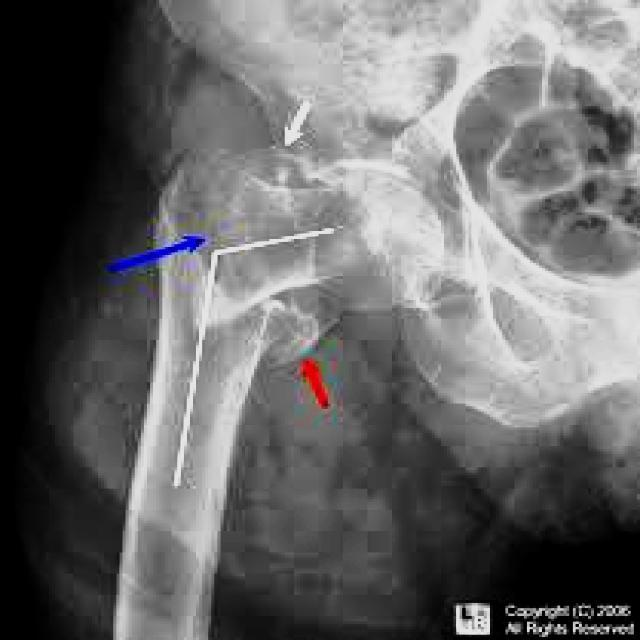Comminuted Fracture: (262, 315, 326, 369)
